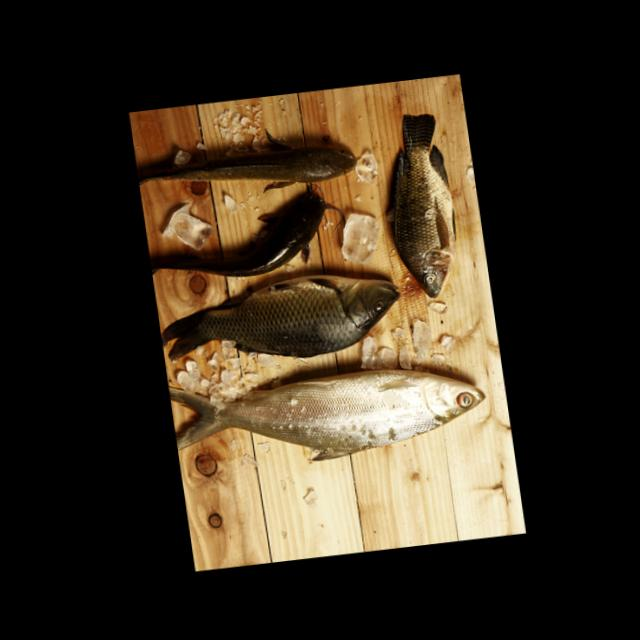fish: (165, 342, 498, 486), (151, 252, 412, 380), (140, 179, 346, 294), (131, 115, 365, 212), (368, 107, 473, 307)
